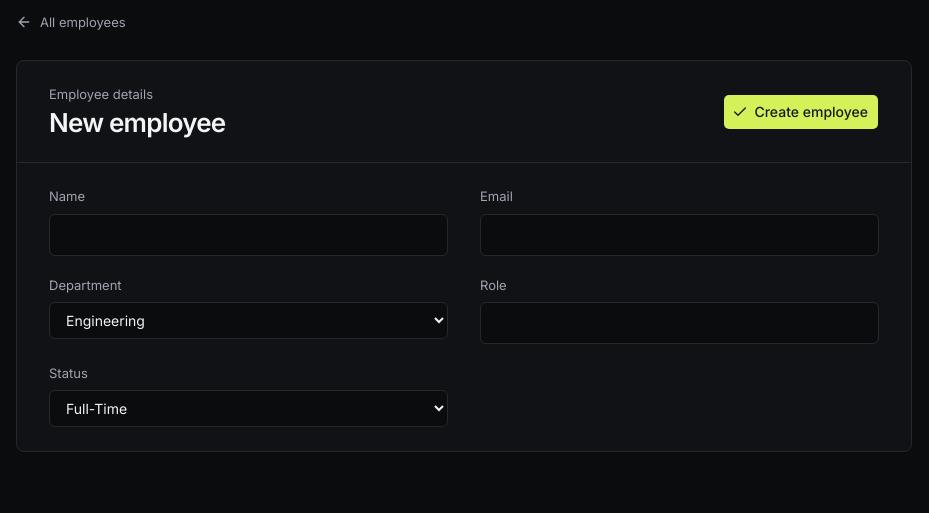
Test: EmployeeEditor › shows validation errors when required fields are empty
Step 1. Click the button "Create employee" → (801, 112), box [723,94,879,130]
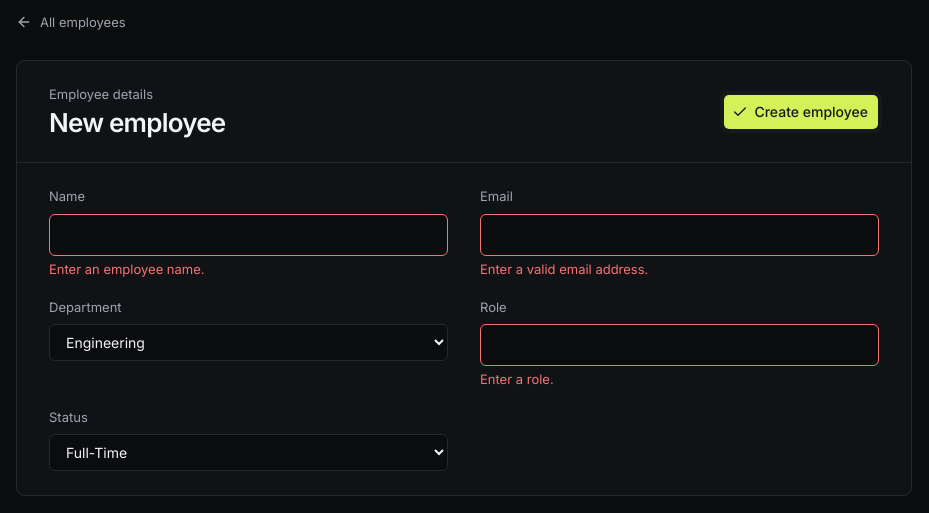
Check: the text "Enter an employee name." is shown, box [49,261,205,277]
Check: the text "Enter a valid email address." is shown, box [480,261,648,277]
Check: the text "Enter a role." is shown, box [480,371,554,387]
